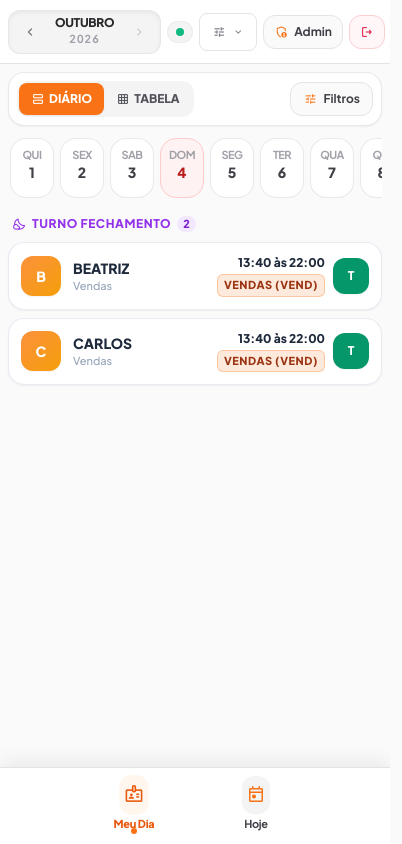
Scenario: Viewer Integration — Fase 7.5 › alternância grid → personal via botão Meu Dia na MobileNavBar
Click the button titled "Voltar para Meu Dia" at (134, 804), box [75, 772, 193, 836]
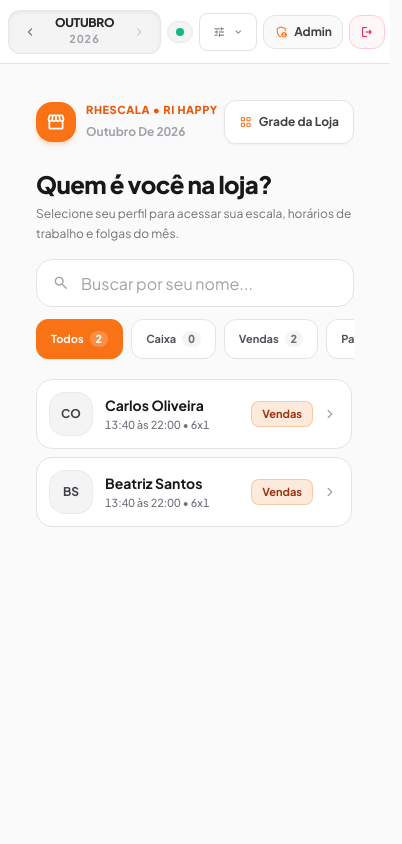
Expected: the button titled "Ver grade completa da loja" is shown, [224, 100, 354, 144]
